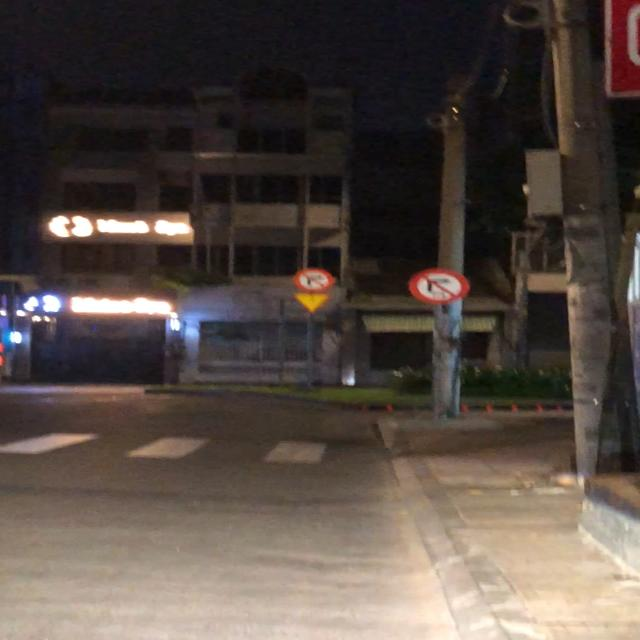Bien bao cam re phai: (292, 267, 335, 291)
Bien bao cam xe o to re phai: (408, 267, 473, 305)
Bien bao giao nhau voi duong uu tien: (291, 292, 335, 314)
